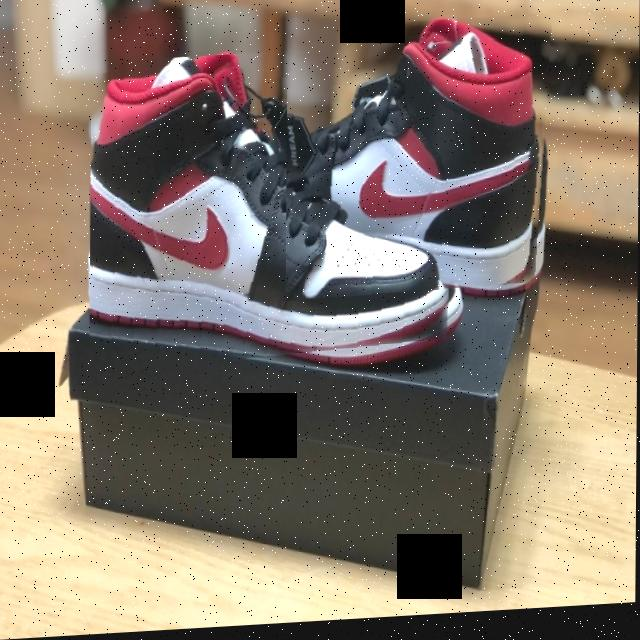shoe: (90, 46, 463, 377), (286, 21, 553, 305)
